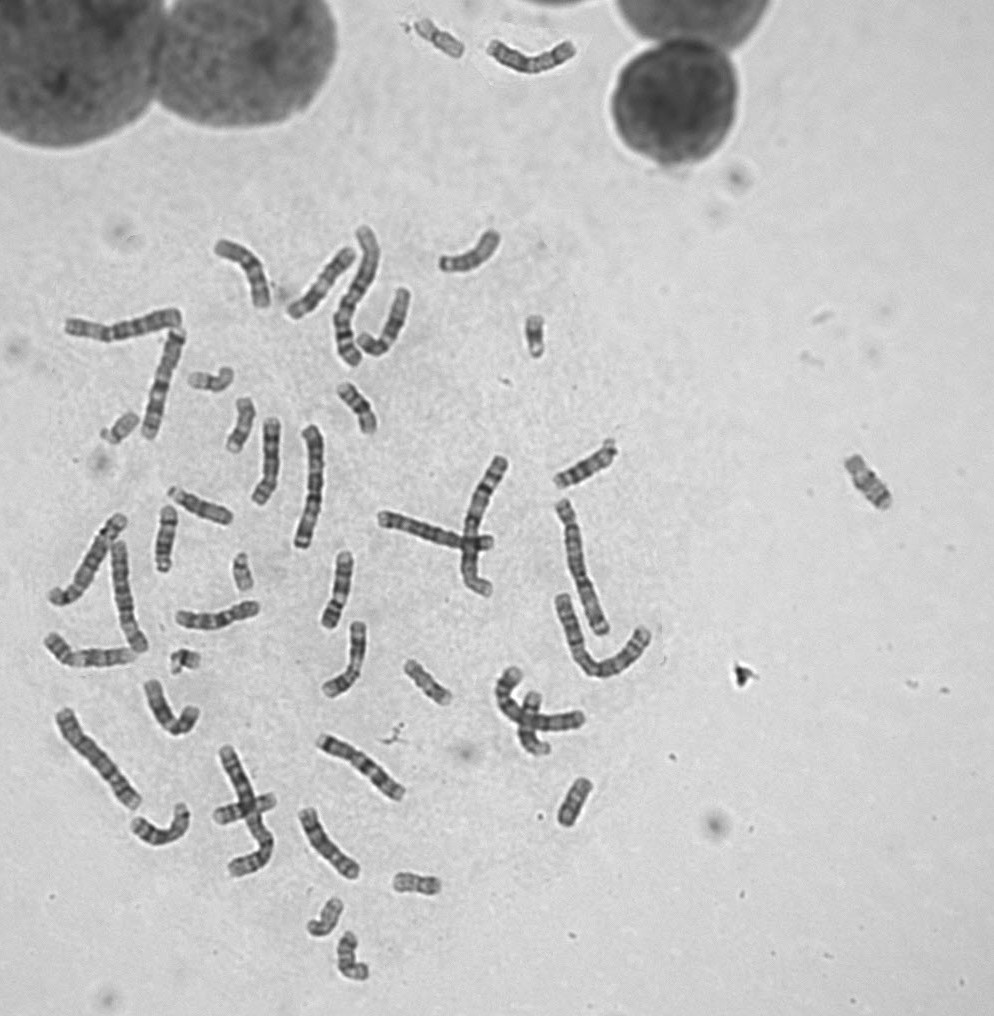chromosomes: (46, 702, 148, 818), (549, 584, 656, 685), (323, 215, 385, 371), (553, 491, 613, 645), (44, 508, 131, 611), (216, 742, 277, 881), (456, 453, 513, 597), (315, 730, 414, 809), (492, 663, 593, 734), (142, 325, 198, 444), (282, 242, 362, 324), (103, 538, 155, 660), (208, 232, 279, 313), (61, 305, 186, 351), (377, 510, 498, 556), (290, 418, 330, 556), (297, 803, 364, 883), (314, 619, 372, 705), (41, 630, 145, 676), (355, 282, 417, 358), (548, 434, 621, 492), (139, 680, 206, 743), (838, 451, 901, 514), (127, 796, 195, 852), (488, 34, 577, 76), (432, 229, 503, 281), (169, 597, 263, 636), (248, 413, 284, 513), (164, 479, 237, 527), (317, 547, 357, 634), (407, 16, 478, 63), (291, 895, 351, 948), (208, 789, 279, 832), (401, 655, 457, 709), (146, 498, 184, 577), (335, 378, 385, 438), (221, 392, 263, 455), (516, 689, 554, 758), (552, 772, 595, 831), (90, 406, 142, 453), (339, 923, 373, 986), (384, 868, 447, 898), (185, 361, 238, 393), (228, 542, 259, 595), (521, 308, 547, 361), (167, 648, 204, 678)
